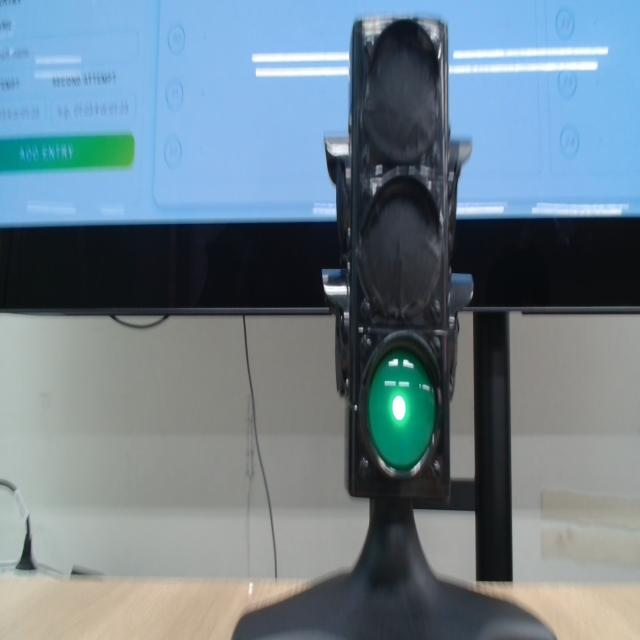green_light: (367, 348, 436, 471), (392, 396, 405, 421)
